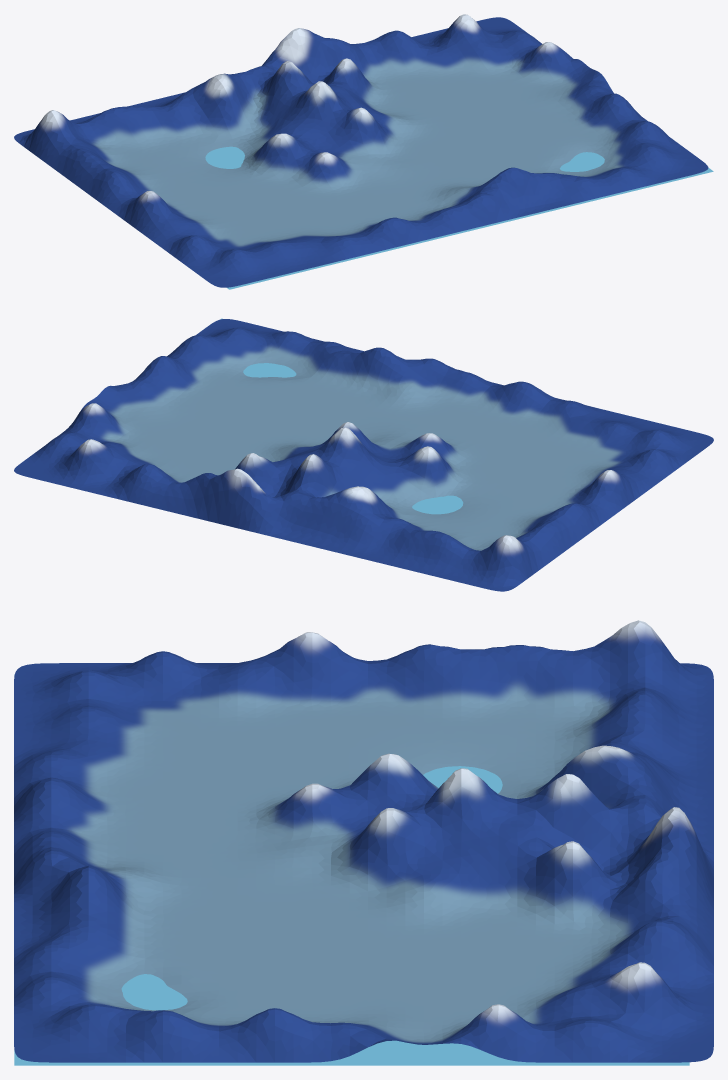
Rendered from mountains.glb.
The picture shows the model from 3 angles, top to bottom: view 1: azimuth 30°, elevation 25°; view 2: azimuth 150°, elevation 25°; view 3: azimuth 270°, elevation 25°; orthographic projection. The views are drawn at different scales.
Parts seen in each view (by area): view 1: terrain, water; view 2: terrain, water; view 3: terrain, water.
Part boxes in pixels (x1,y1,x2,y2): terrain: (14,14,708,287); water: (205,146,713,289); terrain: (14,319,713,591); water: (220,318,463,514); terrain: (14,620,713,1062); water: (14,674,689,1065).
Bounding box in the file's own units: 387 × 41.52 × 286.
2 materials, 1 textured.
